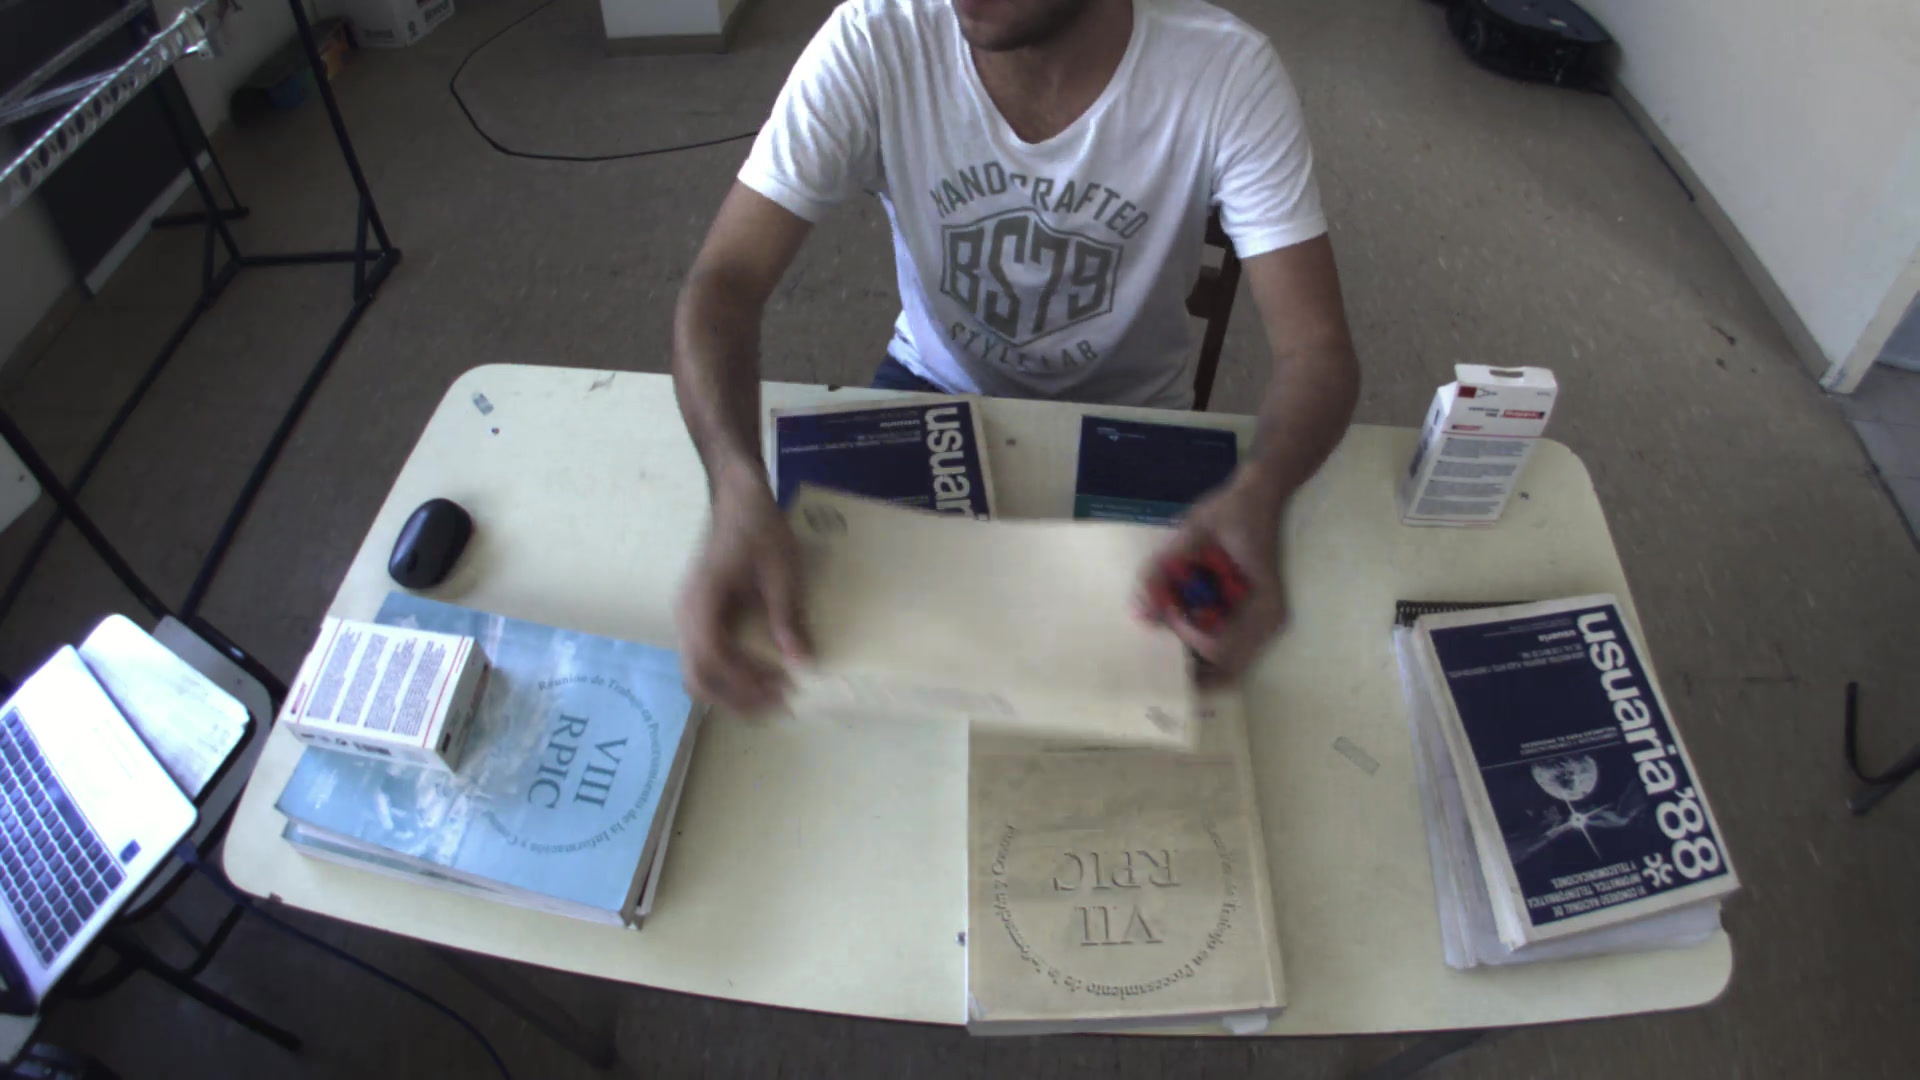hand: (665, 492, 828, 737), (1121, 458, 1300, 659)
